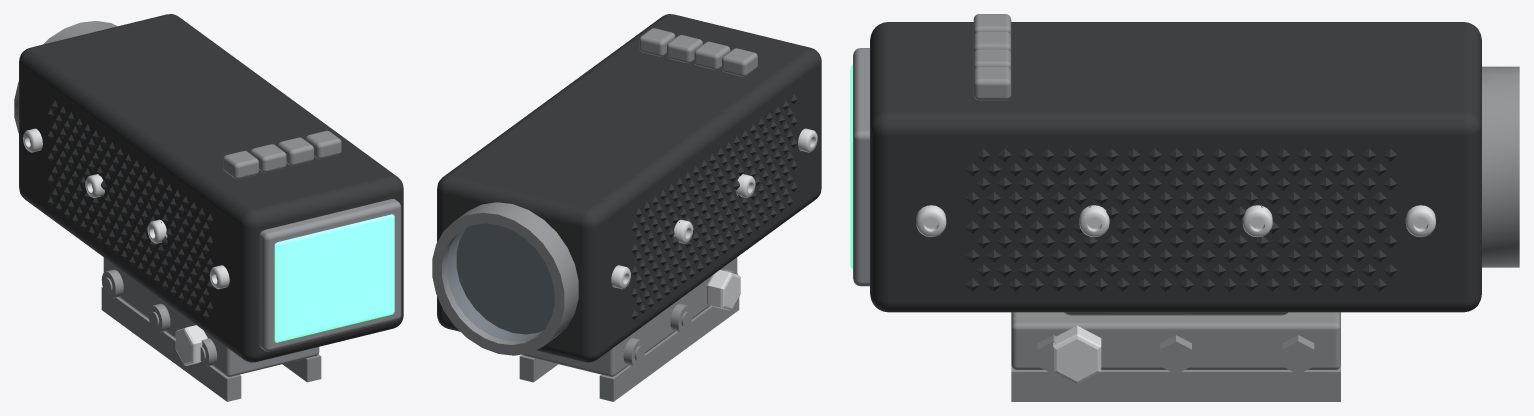
Rendered from mega-weapon-pack-thermal-sight-1c06afdf.glb.
3 views of the same model, side by side, from view 1: azimuth 30°, elevation 25°; view 2: azimuth 150°, elevation 25°; view 3: azimuth 270°, elevation 25° (orthographic). The views are drawn at different scales.
Visible parts, largest first — view 1: thermal-sight; view 2: thermal-sight; view 3: thermal-sight.
Boxes of the visible parts, x1,y1,x2,y2 form: thermal-sight: (14, 14, 403, 401); thermal-sight: (432, 14, 821, 401); thermal-sight: (850, 14, 1519, 401).
Size of the model in its own units: 0.058 by 0.0764 by 0.1422.
